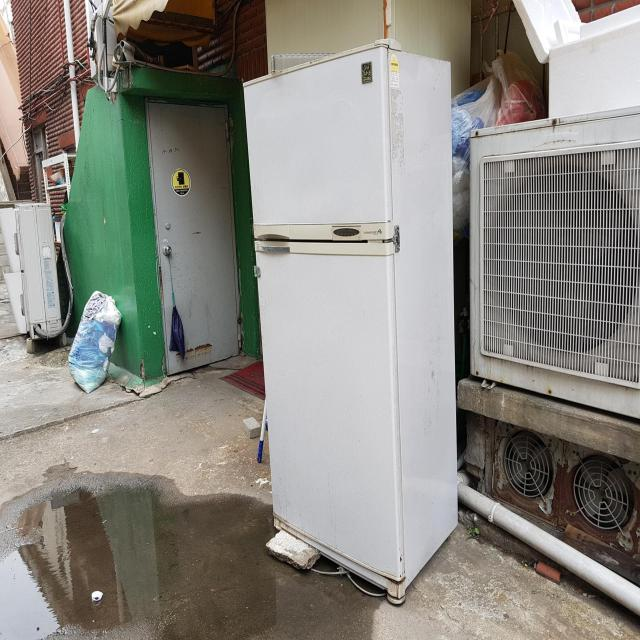refrigerator: (242, 36, 460, 606)
